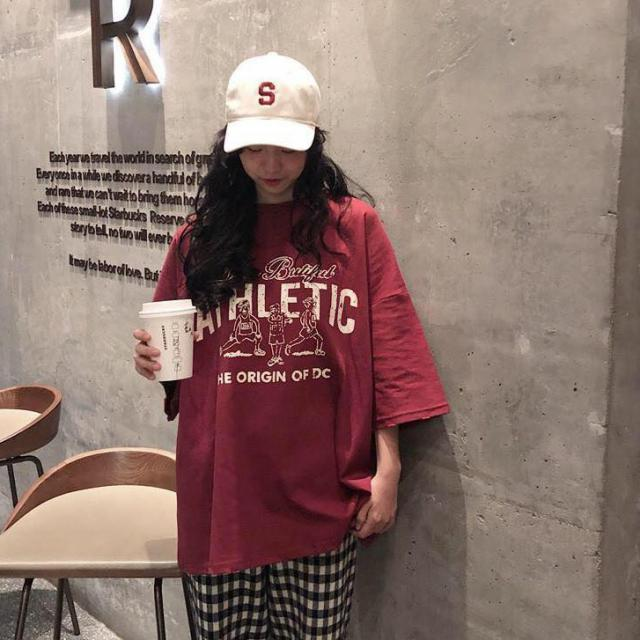Shirt: (140, 187, 456, 582)
